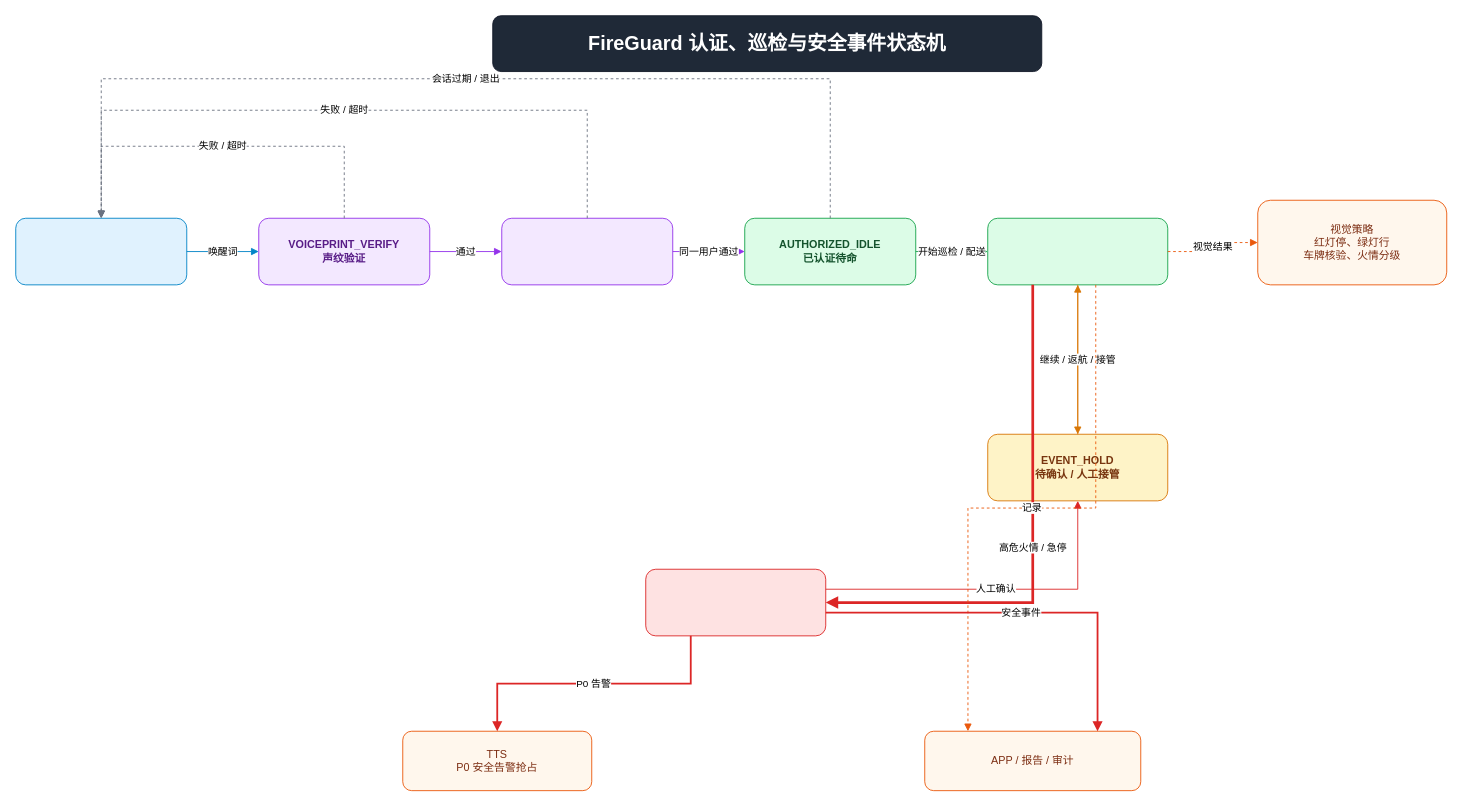
Some shapes in this 1463 by 806 pixel diagram are drawn without their labels. Here are the shapes that lost their labels. From the top down, the box of each, then its label:
(15, 217, 187, 285): SILENT_STANDBY 静默待机
(501, 217, 673, 285): FACE_VERIFY 人脸验证
(987, 217, 1168, 285): MISSION_RUNNING 自动巡检 / 配送
(645, 568, 826, 636): SAFETY_STOP 强制安全停车
